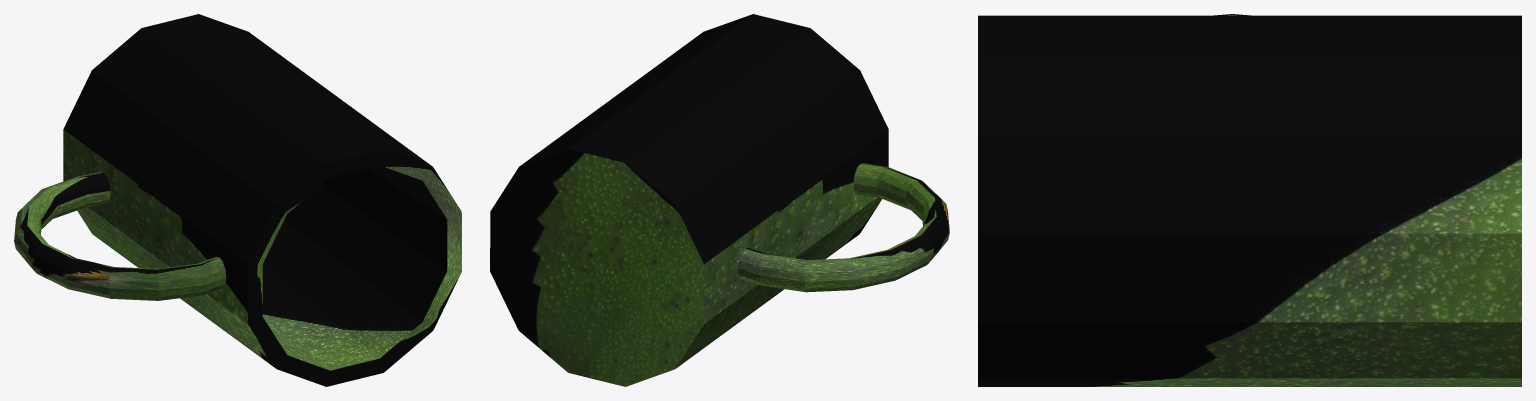
3 renders of one model, left to right at view 1: azimuth 30°, elevation 25°; view 2: azimuth 150°, elevation 25°; view 3: azimuth 270°, elevation 25°, orthographic. The views are drawn at different scales.
Size of the model in its own units: 0.0747 by 0.0464 by 0.0693.
